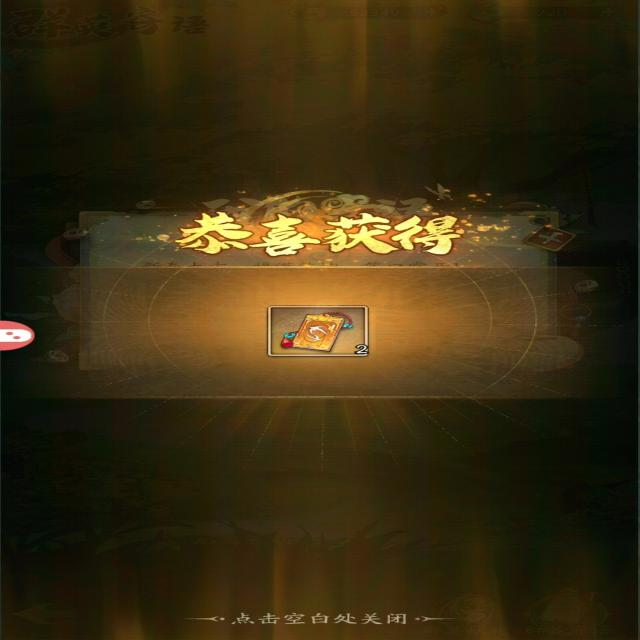hint-guide: (199, 586, 448, 640)
